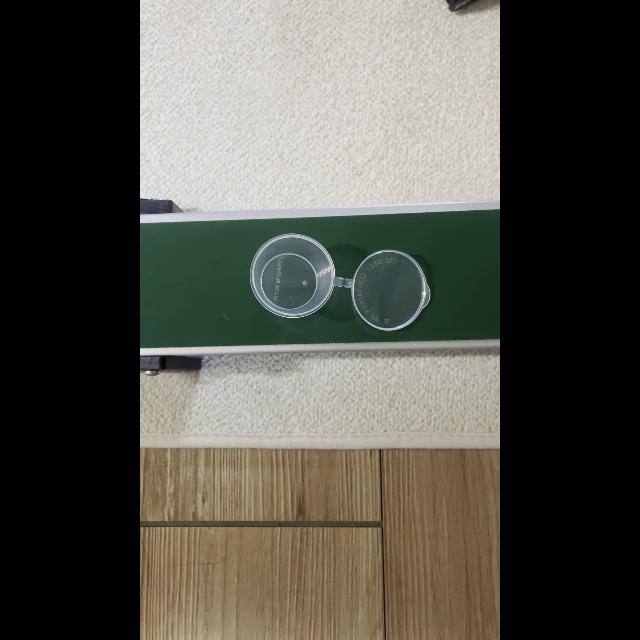clean: (249, 241, 331, 317), (356, 250, 424, 328)
